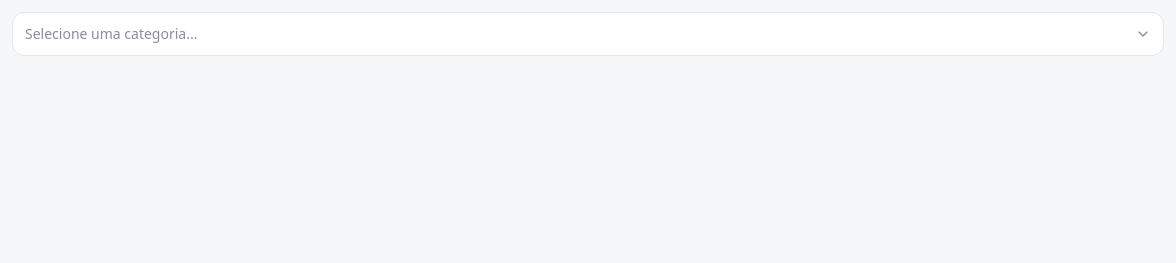
CategoryCombobox › busca mantém a subcategoria recuada sob a mãe
The width and height of the screenshot is (1176, 263).
Click the button: click(111, 34) [12,12,1164,56]
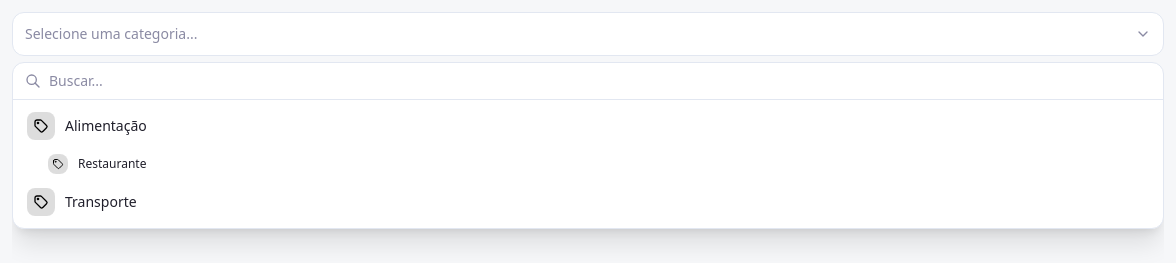
In the field with placeholder "Buscar...": (600, 81) [49,71,1151,91], type "rest"
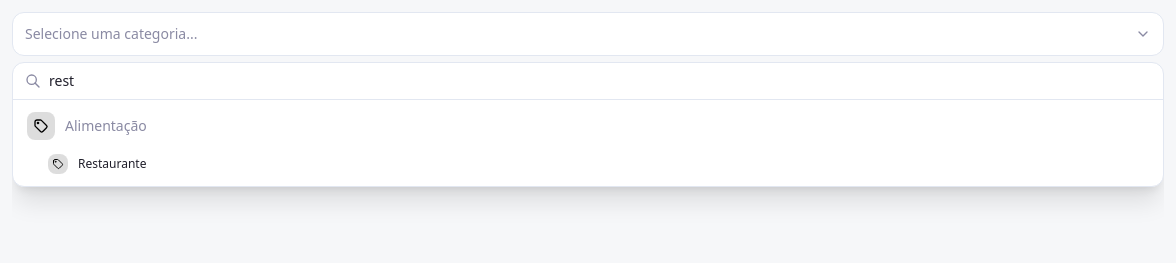
Expected: the button "Transporte" is gone
